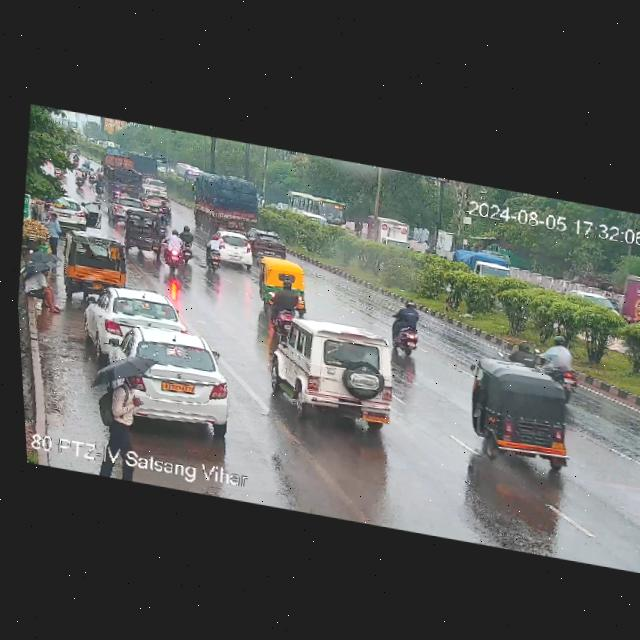bus: (280, 187, 354, 236)
car: (264, 317, 396, 428), (109, 325, 236, 436), (465, 360, 579, 474), (77, 276, 196, 375), (60, 231, 131, 294), (255, 255, 314, 312), (121, 210, 170, 257), (209, 229, 258, 267), (560, 288, 620, 319), (246, 225, 291, 260), (44, 196, 90, 226), (112, 193, 146, 226), (144, 178, 172, 201)
motorcycle: (538, 332, 583, 400), (390, 298, 425, 359), (268, 275, 301, 334), (159, 229, 187, 269), (508, 338, 536, 367), (178, 225, 200, 260), (206, 234, 227, 270)
person: (97, 363, 146, 448), (27, 268, 65, 318), (40, 210, 66, 259)
truck: (95, 144, 147, 194), (617, 269, 640, 335)
